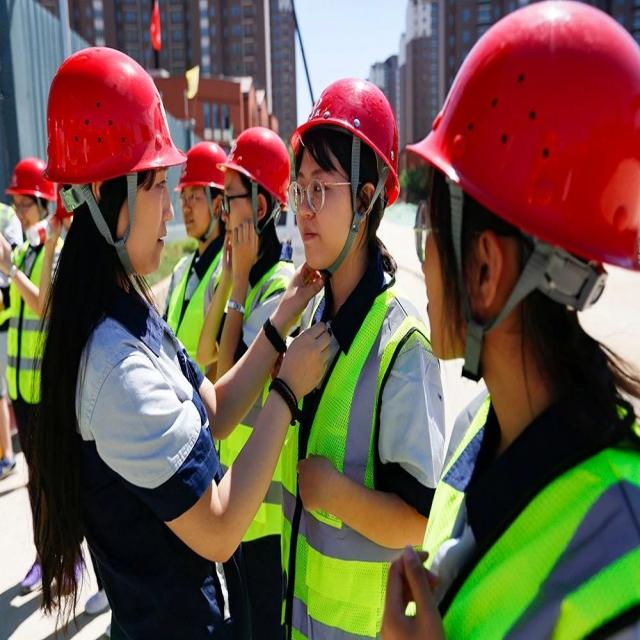Reflective-Jacket: (272, 267, 433, 639), (424, 367, 634, 639), (203, 249, 297, 544), (3, 227, 51, 408)
Safety-Helmet: (413, 3, 640, 273), (40, 42, 186, 185), (289, 71, 402, 202), (219, 124, 292, 205), (176, 139, 226, 195), (4, 154, 55, 200)
